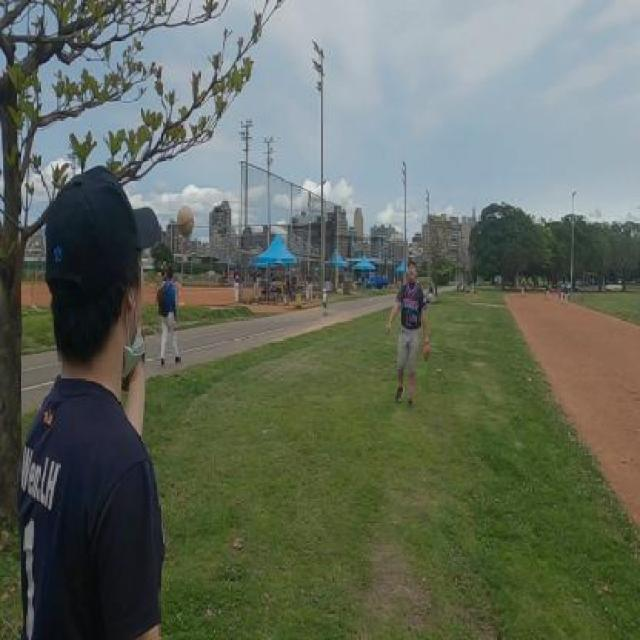baseball: (178, 204, 195, 238)
